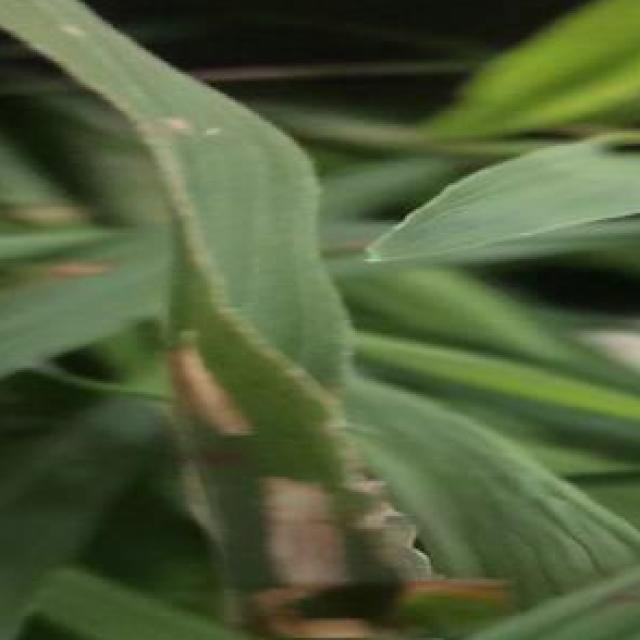Leaf_Blast: (233, 442, 361, 601), (174, 322, 264, 433)
